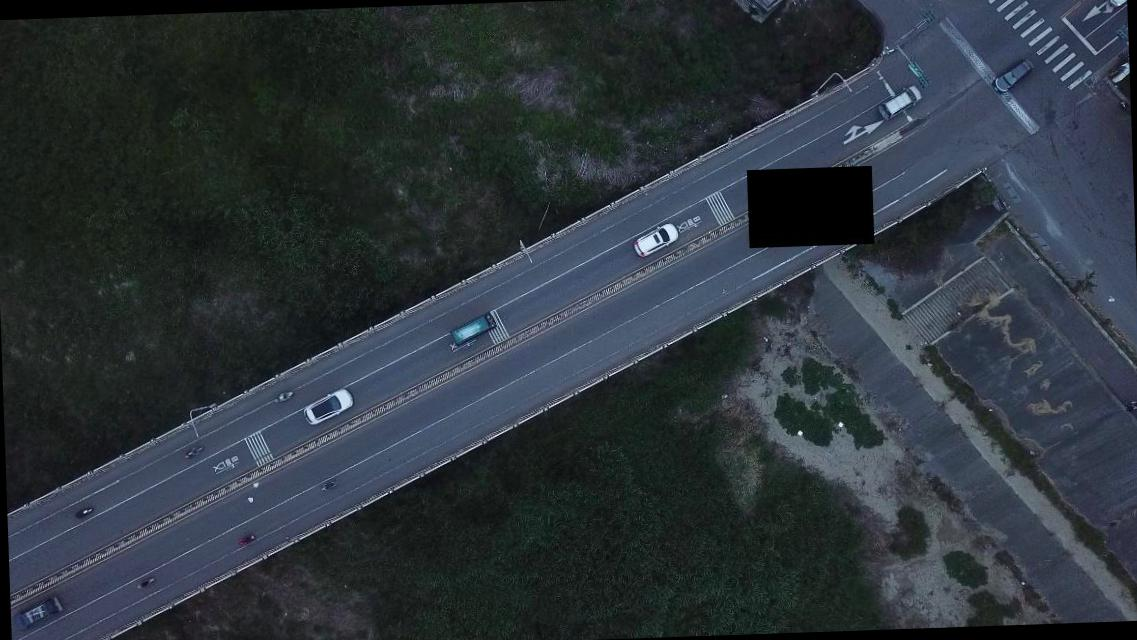vehicle: (10, 592, 66, 630), (300, 388, 352, 426), (630, 220, 680, 257), (448, 310, 496, 348), (877, 84, 922, 120), (992, 58, 1033, 92), (1106, 0, 1126, 11)
